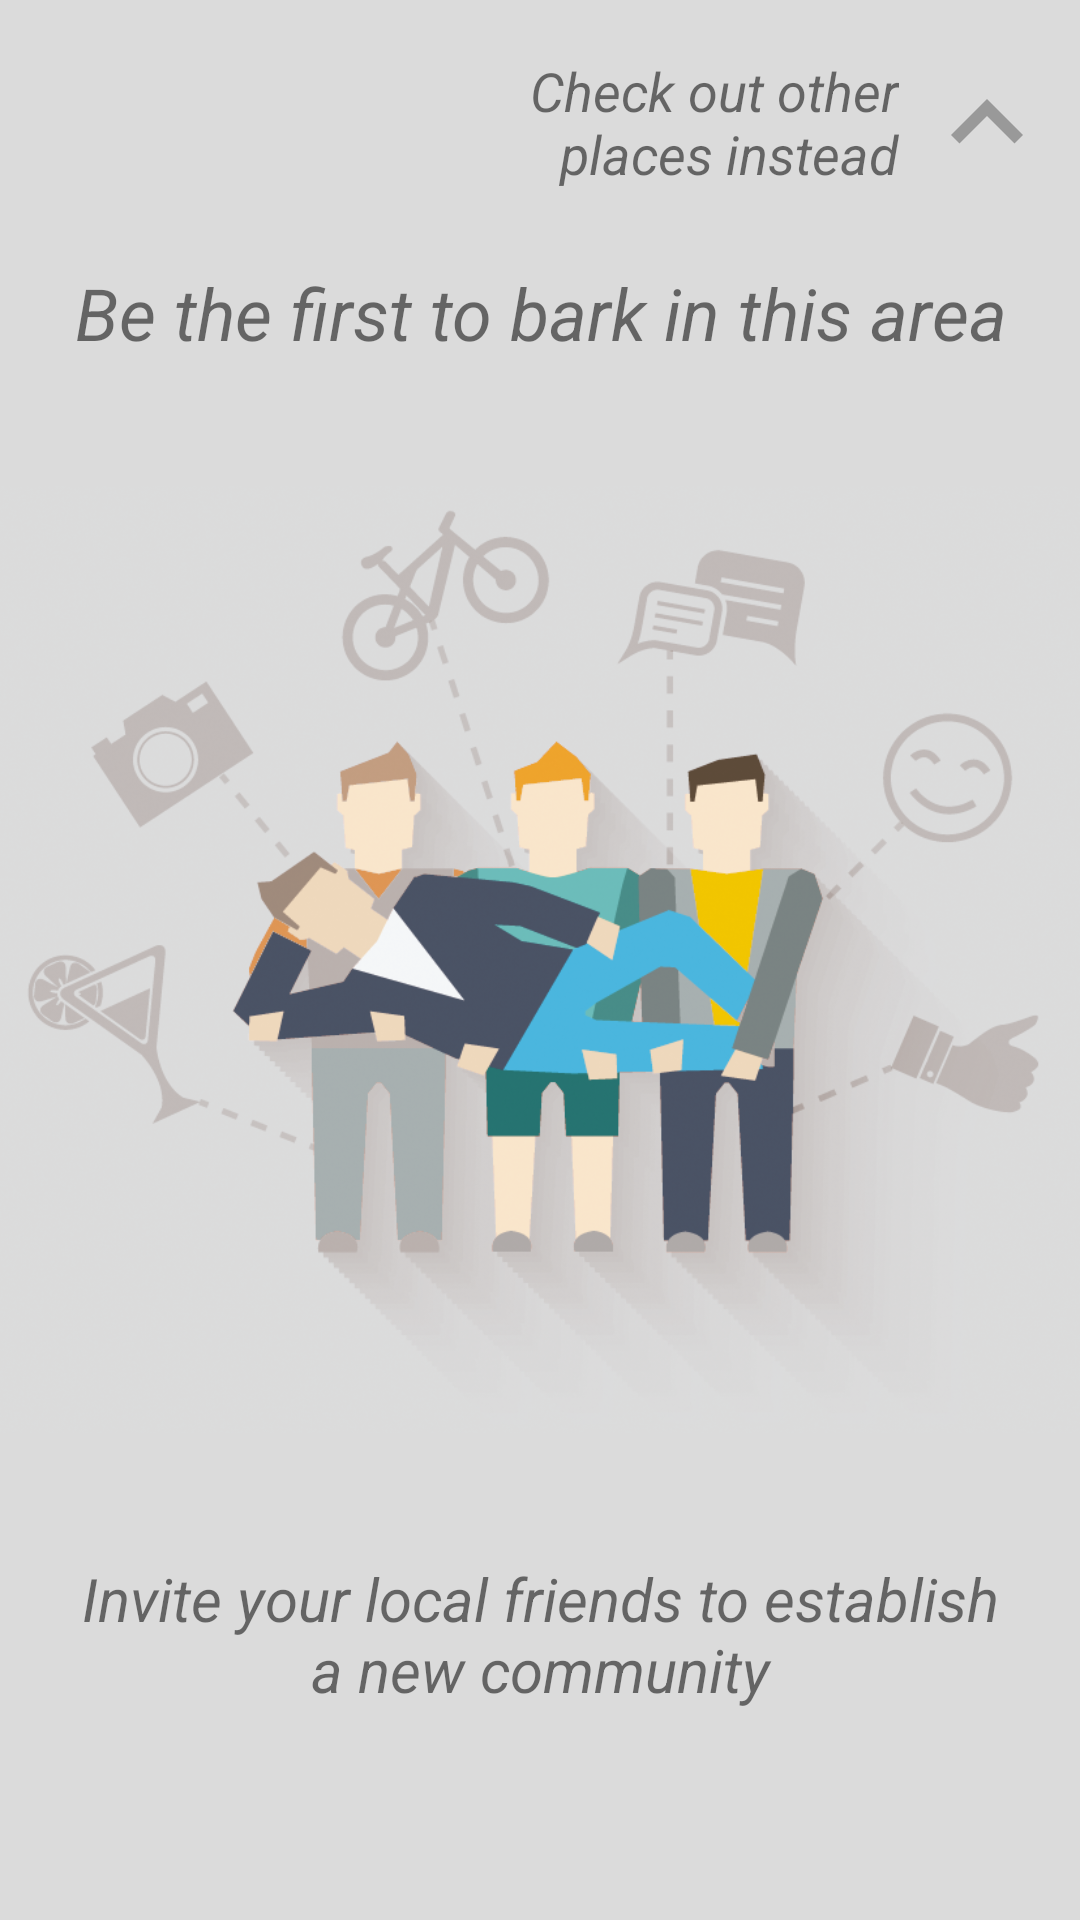

Icon bounding boxes for this 1080*1920 phone screenshot, format (left=x1, top=y1, right=x2, bottom=y2):
keyboard arrow up: (left=951, top=99, right=1023, bottom=143)
